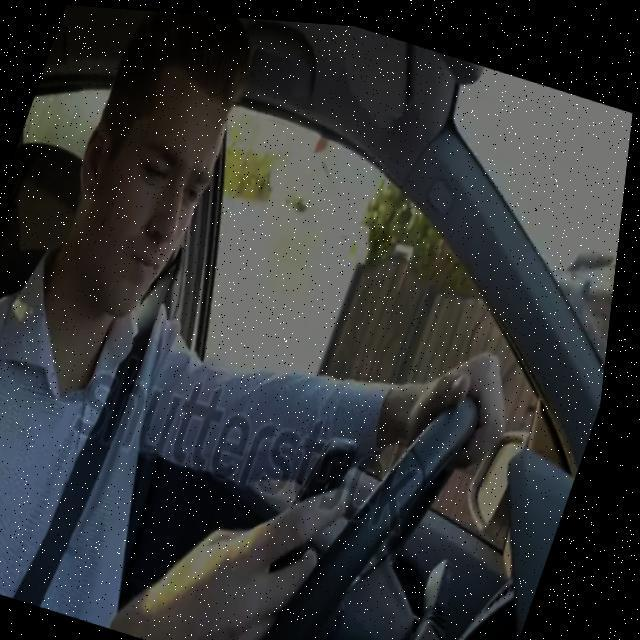PhoneCall: (280, 418, 370, 576)
